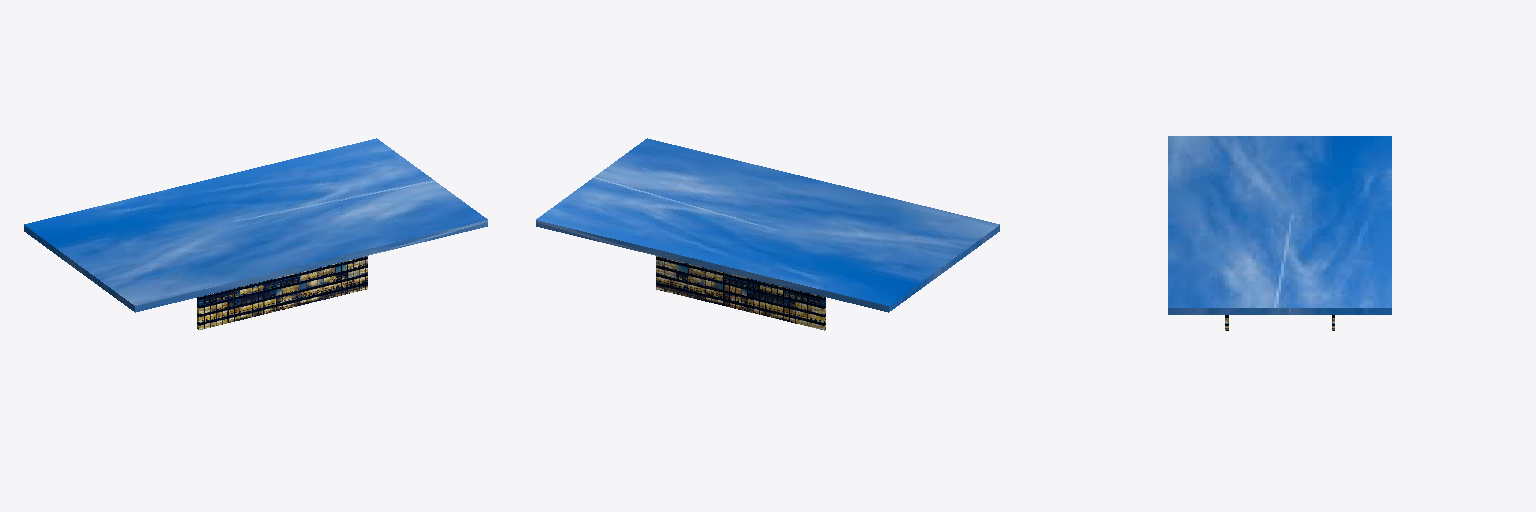
The picture shows the model from 3 angles: view 1: azimuth 30°, elevation 25°; view 2: azimuth 150°, elevation 25°; view 3: azimuth 270°, elevation 25°; orthographic projection.
Parts seen in each view (by area): view 1: Cube.037, Cube.035; view 2: Cube.037, Cube.036; view 3: Cube.037.
Boxes of the visible parts, x1=… form: Cube.037: x1=24, y1=138, x2=487, y2=312; Cube.035: x1=197, y1=256, x2=367, y2=329; Cube.037: x1=536, y1=138, x2=999, y2=312; Cube.036: x1=656, y1=256, x2=825, y2=330; Cube.037: x1=1168, y1=136, x2=1391, y2=314.
Bounding box in the file's own units: 271 × 49.5 × 148.
Materials: 2 (2 with a texture image).